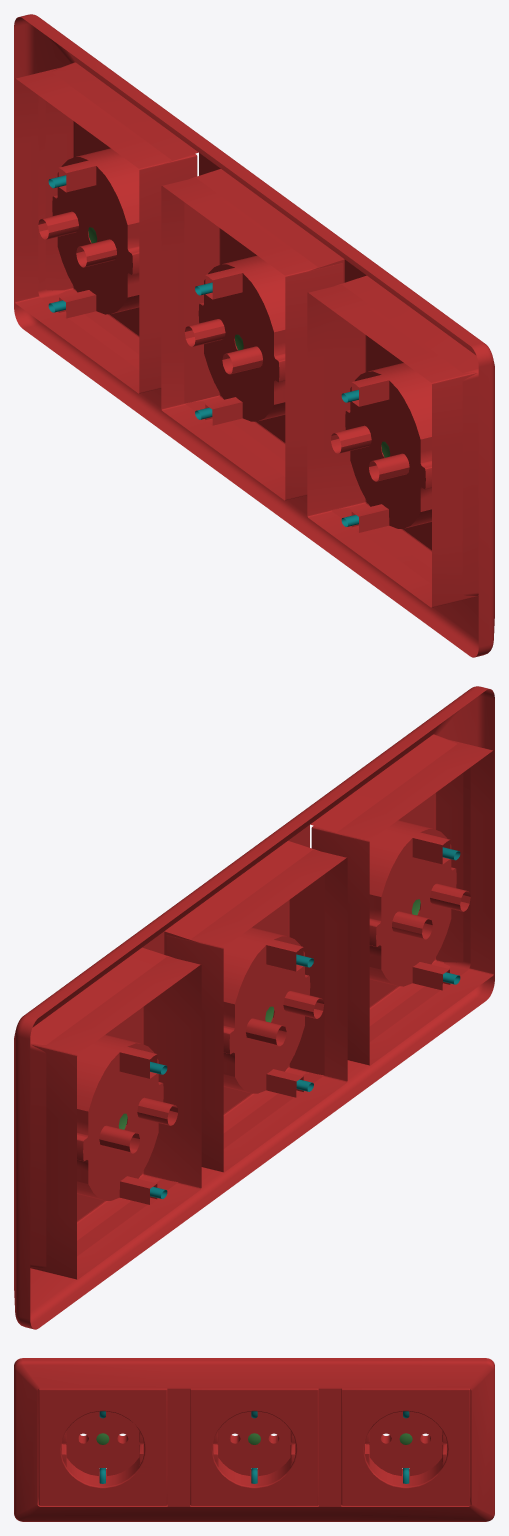
Rendered from SM_Socket_028.fbx.
3 renders of one model, top to bottom at view 1: azimuth 30°, elevation 25°; view 2: azimuth 150°, elevation 25°; view 3: azimuth 270°, elevation 25°, orthographic. The views are drawn at different scales.
Visible parts, largest first — view 1: SM_Socket_028; view 2: SM_Socket_028; view 3: SM_Socket_028.
Boxes of the visible parts, x1=… form: SM_Socket_028: x1=14, y1=14, x2=494, y2=657; SM_Socket_028: x1=14, y1=686, x2=494, y2=1329; SM_Socket_028: x1=14, y1=1358, x2=494, y2=1521.
Size of the model in its own units: 2.3 by 8.05 by 21.84.
